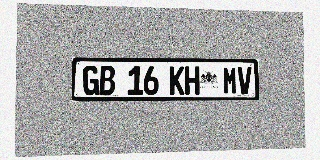1: (128, 66, 143, 95)
6: (143, 66, 159, 95)
B: (99, 66, 115, 95)
G: (83, 66, 99, 95)
H: (185, 66, 199, 95)
K: (169, 66, 184, 95)
M: (223, 67, 237, 94)
V: (238, 67, 252, 94)
